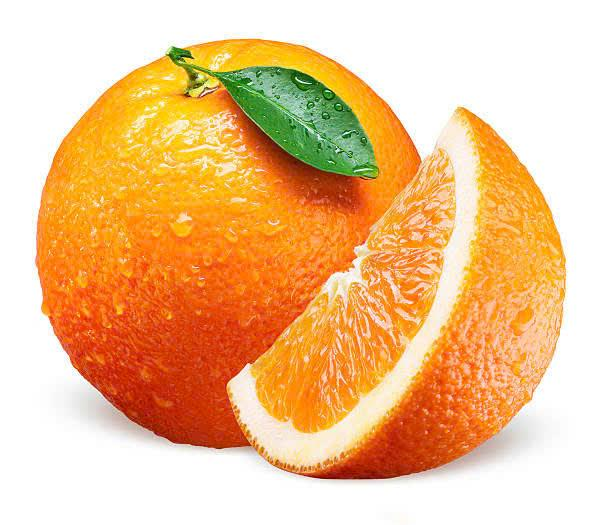orange: (235, 107, 564, 487), (36, 31, 290, 327)
